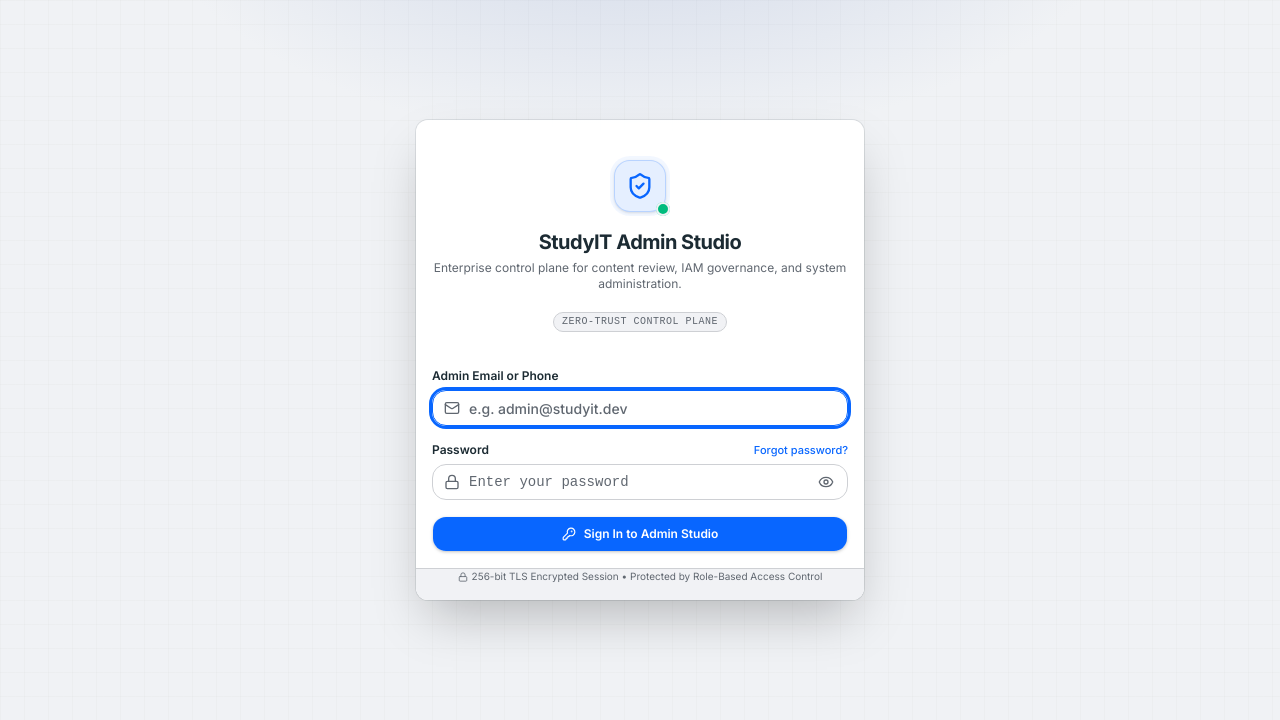
Scenario: AdminLoginPage Component Suite › opens Forgot Password recovery dialog with standard recovery and reset command
Step 1. Click the button "Forgot password?" → x=801, y=450, box x1=754 y1=442 x2=848 y2=458
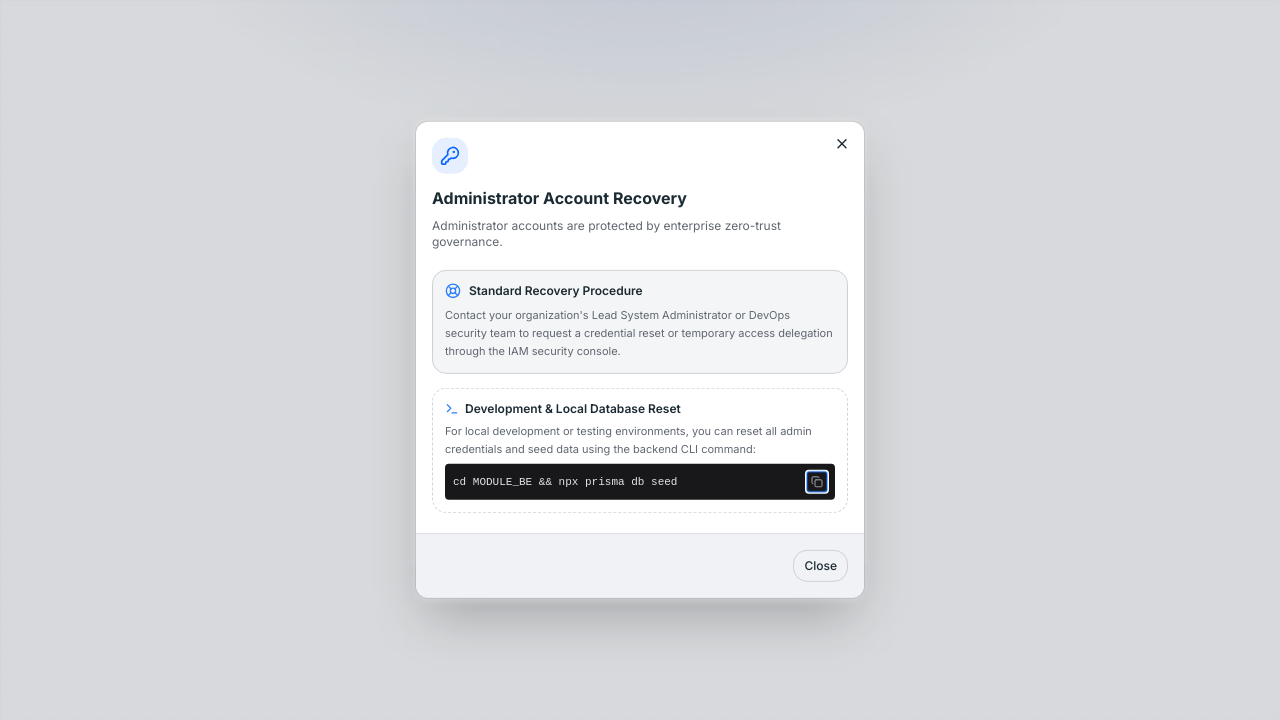
Expected: the heading "Administrator Account Recovery" is shown, x1=432 y1=188 x2=687 y2=208
Expected: the text "Standard Recovery Procedure" is shown, x1=469 y1=283 x2=643 y2=299
Expected: the text "cd MODULE_BE && npx prisma db seed" is shown, x1=453 y1=475 x2=677 y2=490
